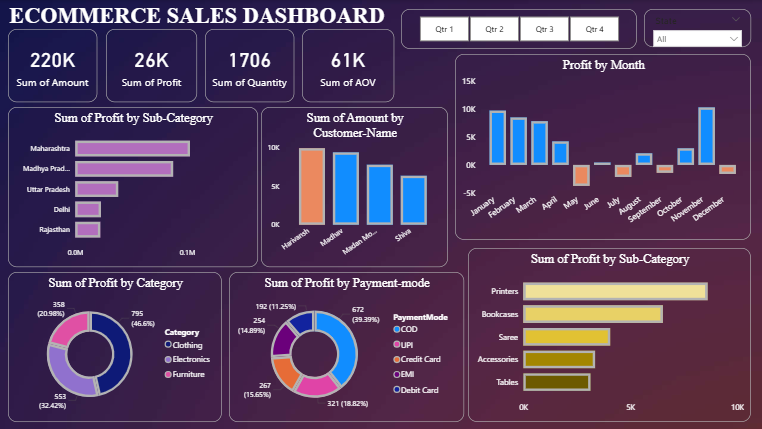

Layout of this report page (visuals, bound fields, positions):
{"tool":"powerbi","page":{"name":"Page 1","canvas":[1280,720],"ordinal":0},"visuals":[{"type":"textbox","box":[0,0,661.8,67.2],"z":0},{"type":"columnChart","title":"Profit by Month","fields":{"Y":["Sum(Details.Profit)"],"Category":["Orders.Order Date.Variation.Date Hierarchy.Month"]},"box":[764.3,90.7,497.2,312.4],"z":1000},{"type":"barChart","title":"Sum of Profit by Sub-Category","fields":{"Y":["Sum(Details.Profit)"],"Category":["Details.Sub-Category"]},"box":[786.1,416.6,475.4,292.3],"z":2000},{"type":"donutChart","title":"Sum of Profit by Category","fields":{"Y":["Sum(Details.Quantity)"],"Category":["Details.Category"]},"box":[13.4,456.9,359.5,252],"z":3000},{"type":"donutChart","title":"Sum of Profit by Payment-mode","fields":{"Y":["Sum(Details.Quantity)"],"Category":["Details.PaymentMode"]},"box":[384.7,456.9,394.8,252],"z":4000},{"type":"card","title":"Sum of Profit by Sub-Category","fields":{"Values":["Sum(Details.Quantity)"]},"box":[344.4,48.7,149.5,122.6],"z":5000},{"type":"card","title":"Sum of Profit by Sub-Category","fields":{"Values":["Sum(Details.Profit)"]},"box":[178.1,48.7,152.9,122.6],"z":6000},{"type":"card","title":"Sum of Profit by Sub-Category","fields":{"Values":["Sum(Details.Amount)"]},"box":[13.4,48.7,149.5,122.6],"z":7000},{"type":"card","title":"Sum of Profit by Sub-Category","fields":{"Values":["Sum(Details.AOV)"]},"box":[507.3,48.7,154.5,122.6],"z":8000},{"type":"barChart","title":"Sum of Profit by Sub-Category","fields":{"Y":["Sum(Details.Amount)"],"Category":["Orders.State"]},"box":[13.4,179.7,419.9,268.8],"z":9000},{"type":"columnChart","title":"Sum of Amount by Customer-Name","fields":{"Category":["Orders.CustomerName"],"Y":["Sum(Details.Amount)"]},"box":[438.4,179.7,314.1,268.8],"z":10000},{"type":"slicer","fields":{"Values":["Orders.State"]},"box":[1081.8,15.1,179.7,63.8],"z":11000},{"type":"slicer","fields":{"Values":["Orders.Order Date.Variation.Date Hierarchy.Quarter"]},"box":[673.6,15.1,396.4,67.2],"z":12000}]}

Visuals, with their boxes in screenshot pixels (x1, y1, x2, y2), scaled from the page's 1280x720 canvas onto the 762x429 screenshot:
textbox: 0/0/394/40
"Profit by Month" columnChart: 455/54/751/240
"Sum of Profit by Sub-Category" barChart: 468/248/751/422
"Sum of Profit by Category" donutChart: 8/272/222/422
"Sum of Profit by Payment-mode" donutChart: 229/272/464/422
"Sum of Profit by Sub-Category" card: 205/29/294/102
"Sum of Profit by Sub-Category" card: 106/29/197/102
"Sum of Profit by Sub-Category" card: 8/29/97/102
"Sum of Profit by Sub-Category" card: 302/29/394/102
"Sum of Profit by Sub-Category" barChart: 8/107/258/267
"Sum of Amount by Customer-Name" columnChart: 261/107/448/267
slicer - Orders.State: 644/9/751/47
slicer - Orders.Order Date.Variation.Date Hierarchy.Quarter: 401/9/637/49
